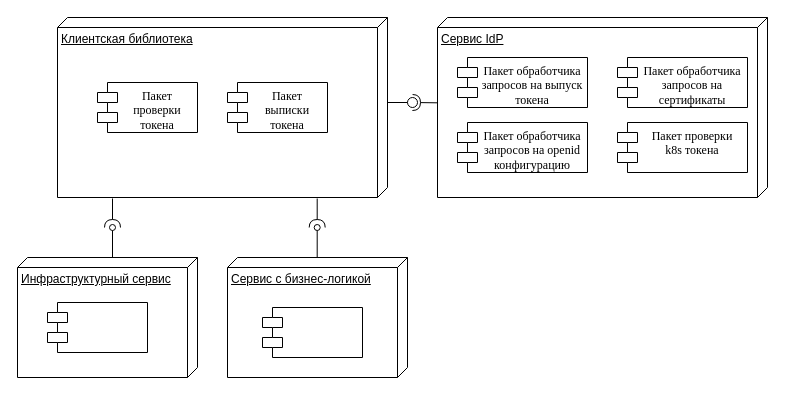
Image size: 785x395. Some labels were removed from this diagram. The centre of each missing label's shape, as x and y in pixels:
Пакет обработчиков запросов: pixel 97 327
Пакет отправки запросов: pixel 312 332
